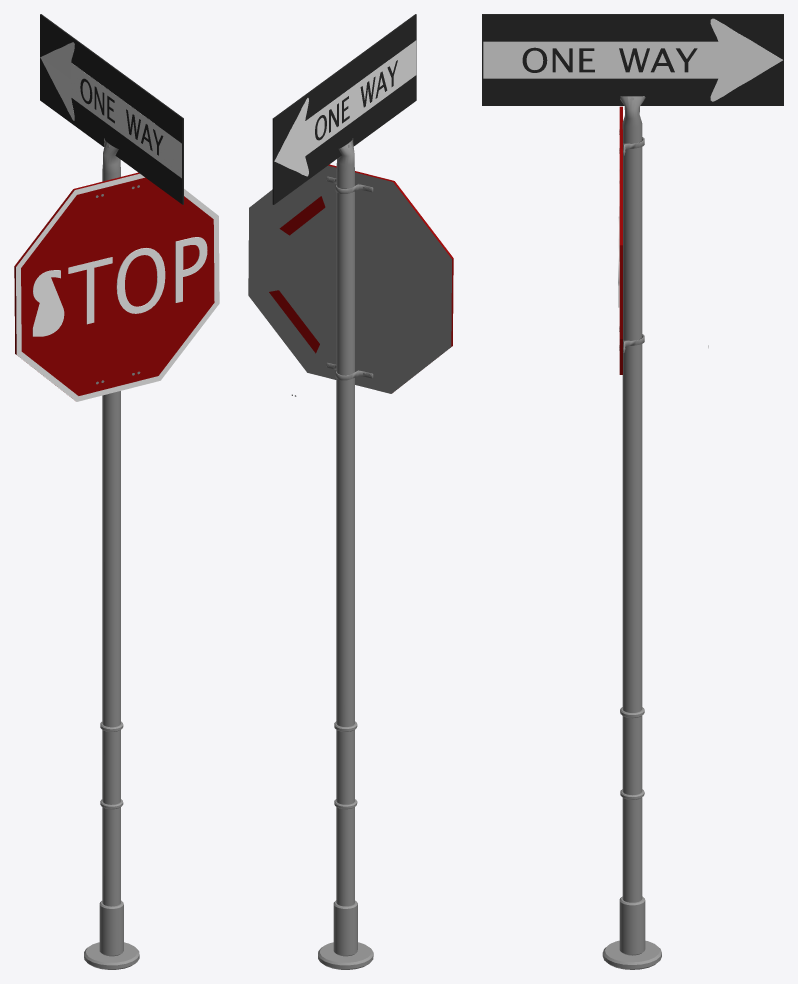
File: AW_StraightOneWayStopStreetSign11_DF.fbx
3 renders of one model, left to right at view 1: azimuth 30°, elevation 25°; view 2: azimuth 150°, elevation 25°; view 3: azimuth 270°, elevation 25°, orthographic. The views are drawn at different scales.
Visible parts, largest first — view 1: StopStreetSign_OneWayStraight; view 2: StopStreetSign_OneWayStraight; view 3: StopStreetSign_OneWayStraight.
Boxes of the visible parts, x1=… form: StopStreetSign_OneWayStraight: x1=14, y1=14, x2=219, y2=969; StopStreetSign_OneWayStraight: x1=248, y1=14, x2=453, y2=969; StopStreetSign_OneWayStraight: x1=482, y1=14, x2=783, y2=969.
Bounding box in the file's own units: 1.13 × 4.73 × 1.37.
